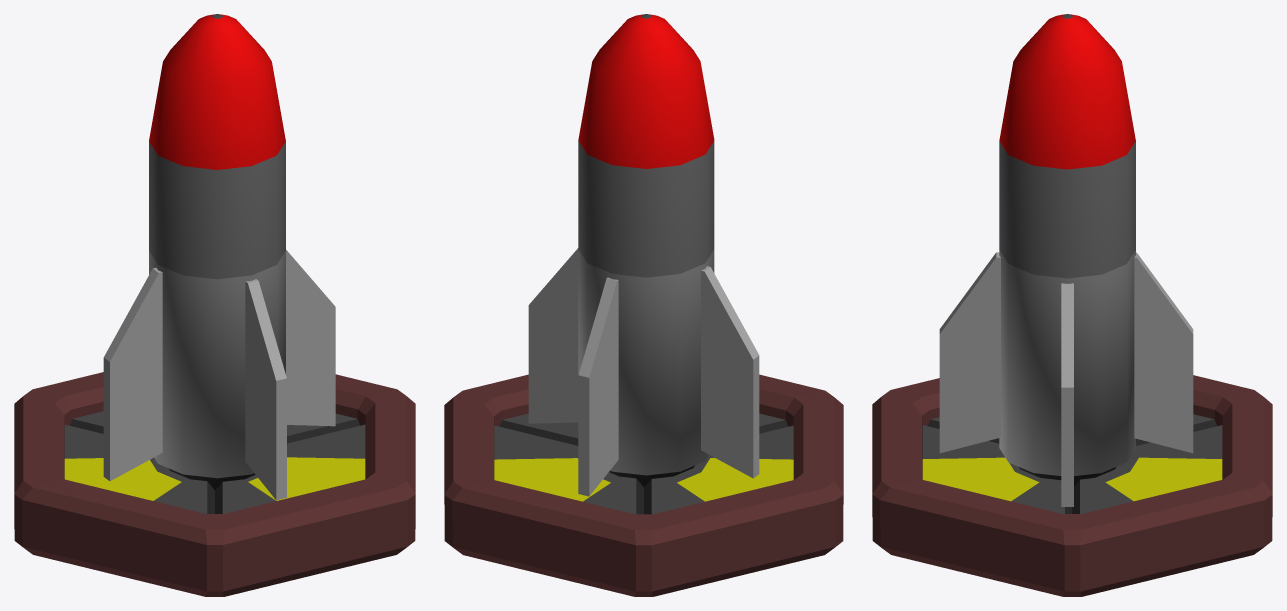
Rendered from nuke.fbx.
3 renders of one model, left to right at view 1: azimuth 30°, elevation 25°; view 2: azimuth 150°, elevation 25°; view 3: azimuth 270°, elevation 25°, orthographic.
Visible parts, largest first — view 1: Missile, Frame, Door1, Door3, Door2; view 2: Missile, Frame, Door2, Door3, Door1; view 3: Missile, Frame, Door2, Door1.
Part boxes in pixels (x1,y1,x2,y2): Missile: (103, 14, 335, 500); Frame: (14, 372, 415, 596); Door1: (215, 424, 365, 513); Door3: (64, 424, 214, 513); Door2: (70, 411, 359, 443); Missile: (528, 14, 759, 496); Frame: (444, 374, 843, 596); Door2: (494, 425, 643, 514); Door3: (644, 425, 793, 514); Door1: (500, 413, 787, 445); Missile: (939, 14, 1193, 506); Frame: (872, 375, 1272, 596); Door2: (1072, 425, 1222, 513); Door1: (922, 425, 1072, 513).
Bounding box in the file's own units: 103 × 123 × 91.37.
